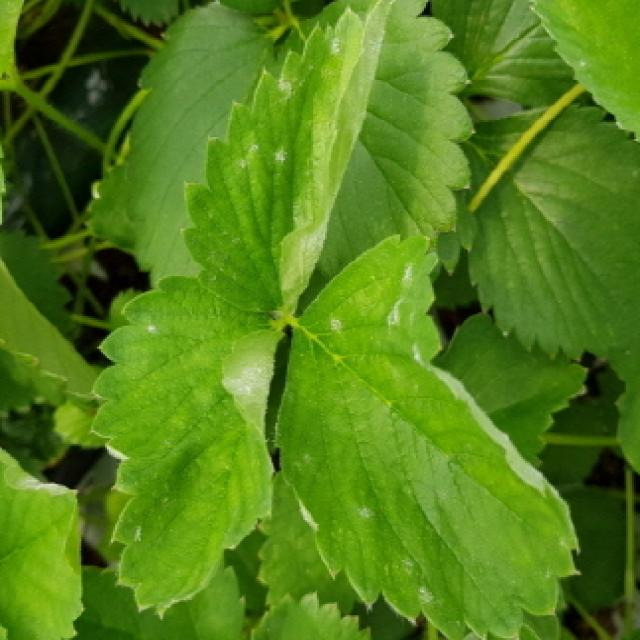Powdery Mildew Leaf: (271, 230, 585, 640), (85, 276, 286, 622), (181, 0, 391, 314)
